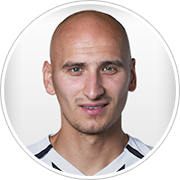smile: (75, 101, 109, 115)
